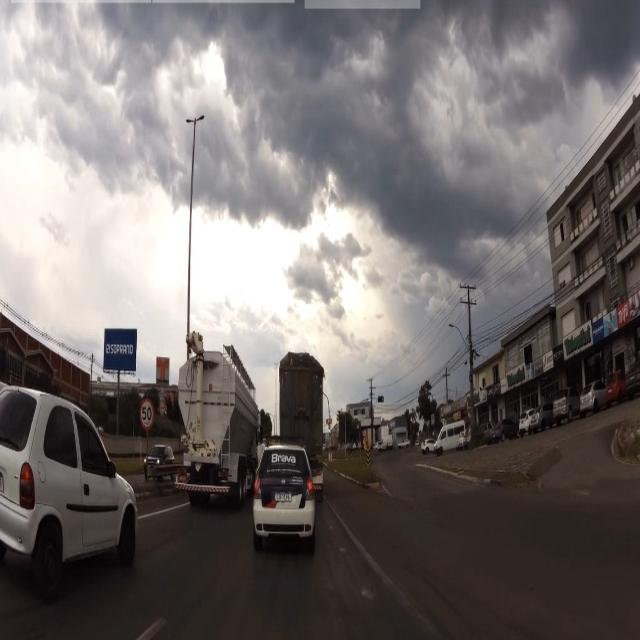R-19: (140, 396, 154, 431)
